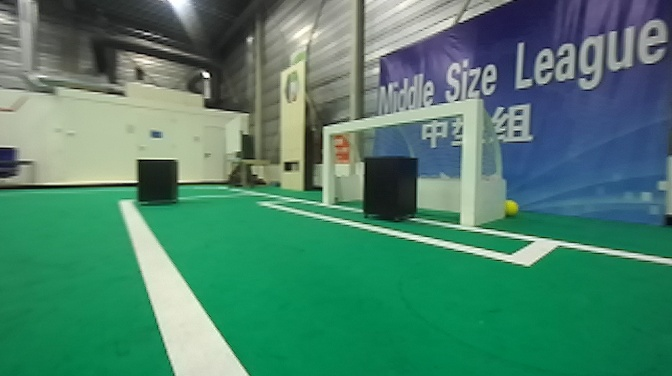ball: (502, 196, 520, 217)
goalpost: (461, 100, 479, 233), (322, 123, 337, 205)
